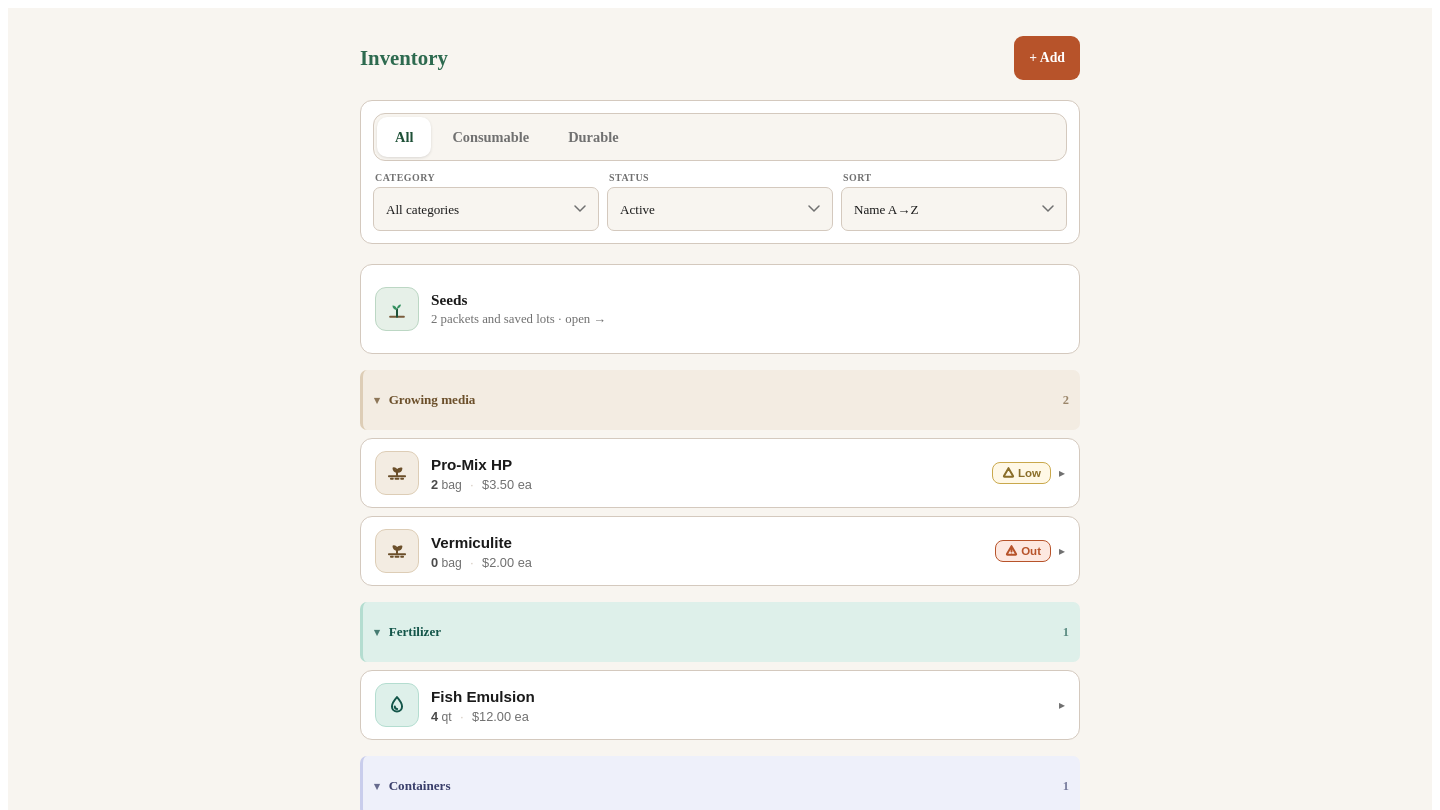
Test case: Inventory list — preserved behaviours › shows the no-match state with a working Clear filters, distinct from the empty state
Expected: the heading "Inventory" is shown, x1=360 y1=46 x2=448 y2=70
Select "Lighting" in the dropdown named "Category" at (486, 209), box x1=373 y1=187 x2=599 y2=231
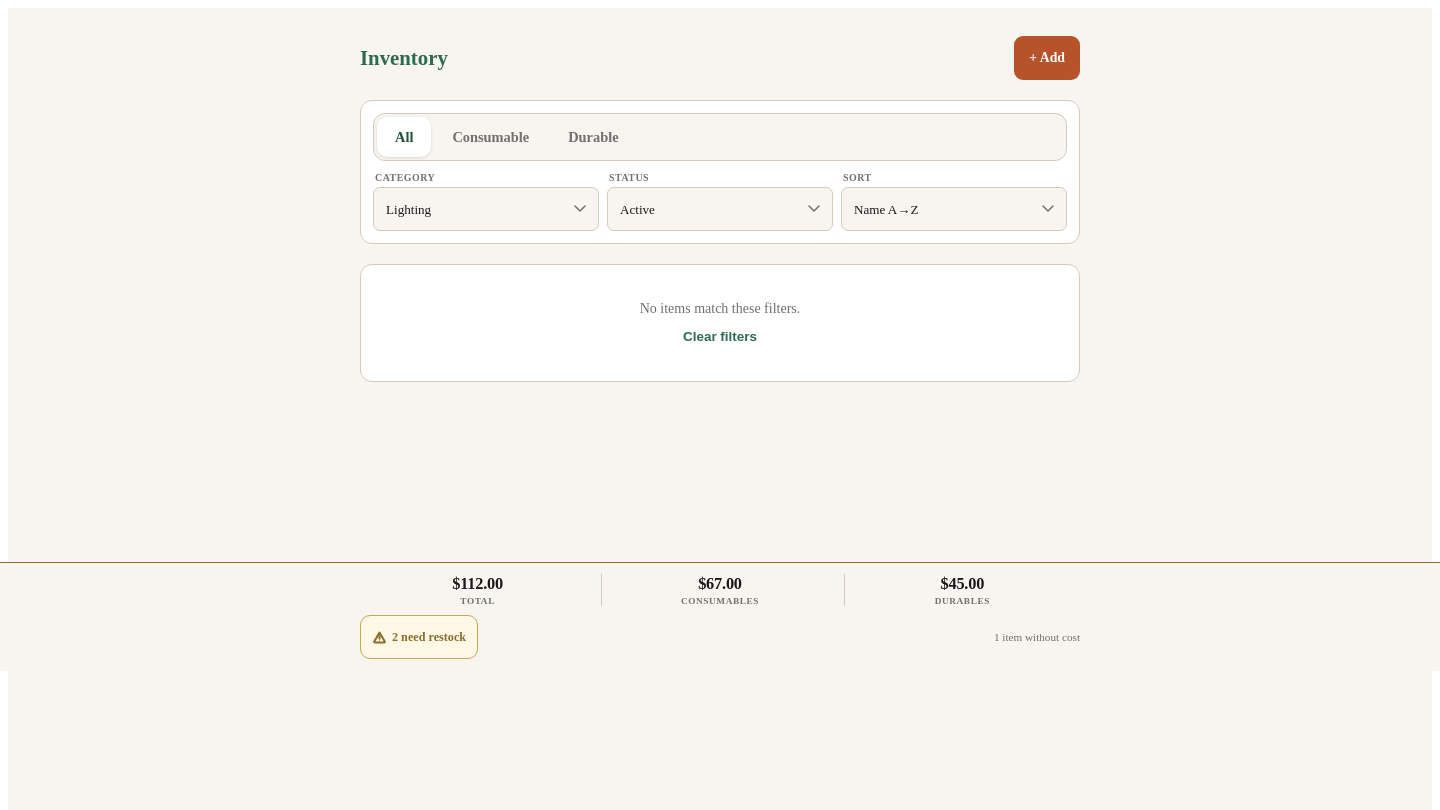
Result: the text "No items match these filters." is shown at x1=640 y1=301 x2=800 y2=316
Result: the link with test id "inv-seeds-pointer" is gone
Click the button "Clear filters" at (720, 336), box x1=683 y1=329 x2=757 y2=344
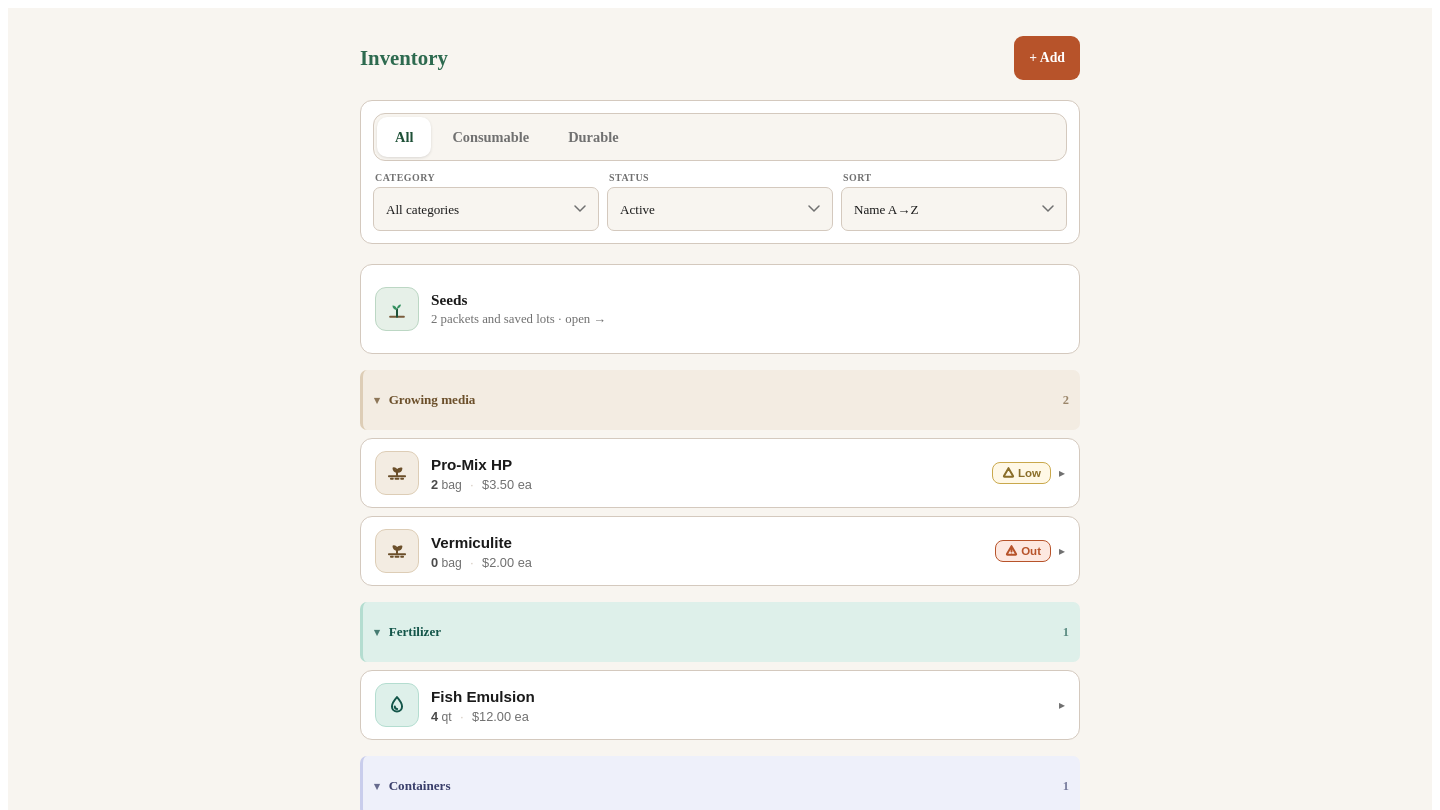
Result: the link with test id "inv-seeds-pointer" is shown at x1=360 y1=264 x2=1080 y2=354
